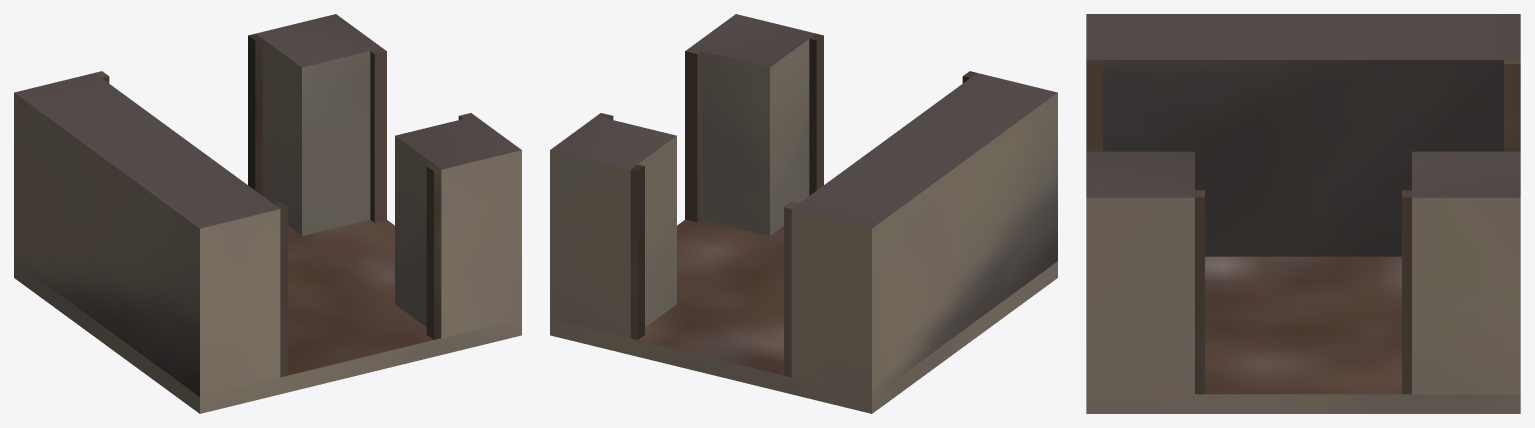
File: Tile_TForm_Default_v2.fbx
The picture shows the model from 3 angles, left to right: view 1: azimuth 30°, elevation 25°; view 2: azimuth 150°, elevation 25°; view 3: azimuth 270°, elevation 25°; orthographic projection. The views are drawn at different scales.
Visible parts, largest first — view 1: TileTForm; view 2: TileTForm; view 3: TileTForm.
Boxes of the visible parts, x1,y1,x2,y2 form: TileTForm: (14,14,521,413); TileTForm: (550,14,1057,413); TileTForm: (1086,14,1520,413).
Size of the model in its own units: 2000 by 1100 by 2000.
4 materials, 4 textured.
